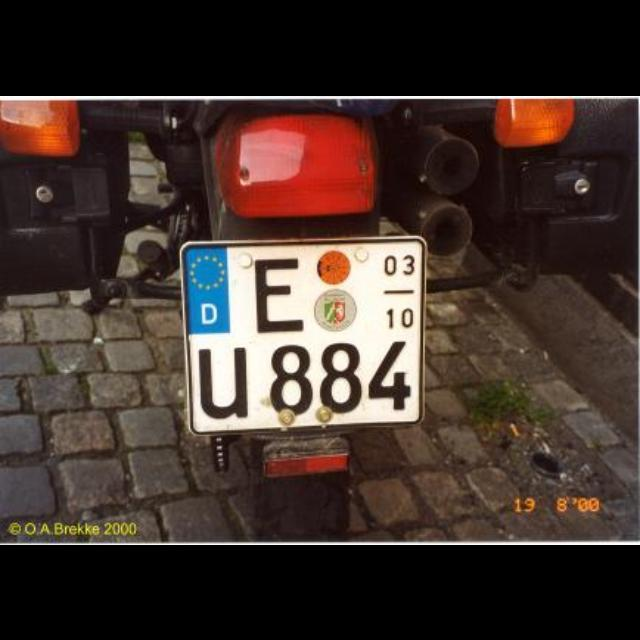license-plates: (181, 236, 425, 434)
